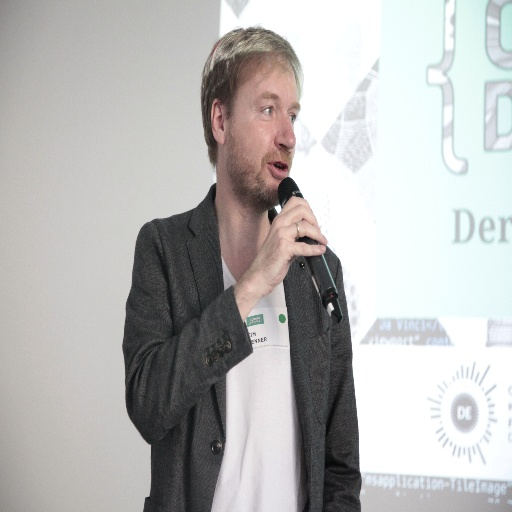hand: (239, 201, 332, 297)
